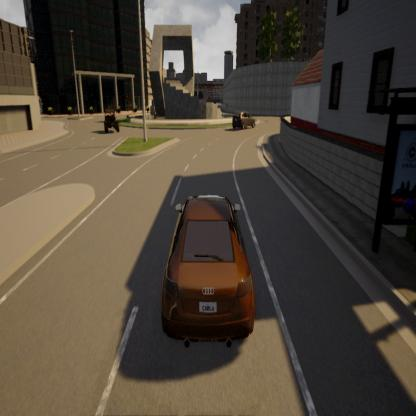Cars: (152, 188, 260, 352), (231, 106, 257, 134), (101, 108, 123, 137)
